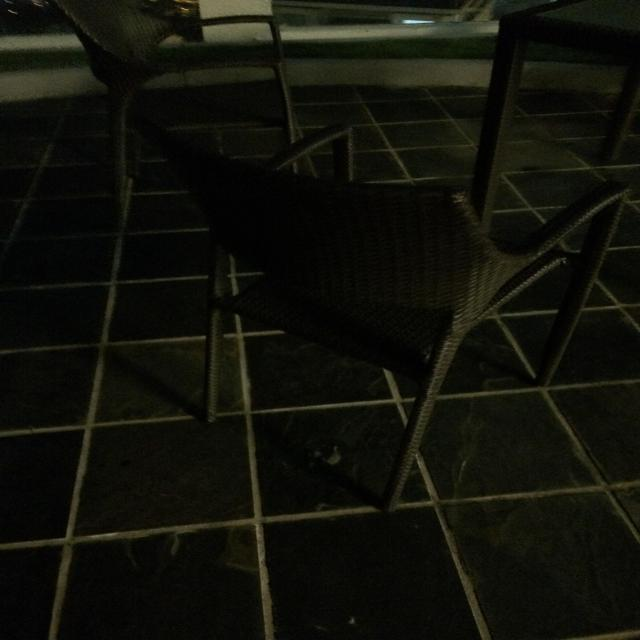chair: (203, 135, 640, 514), (37, 4, 328, 154), (424, 0, 640, 162)
